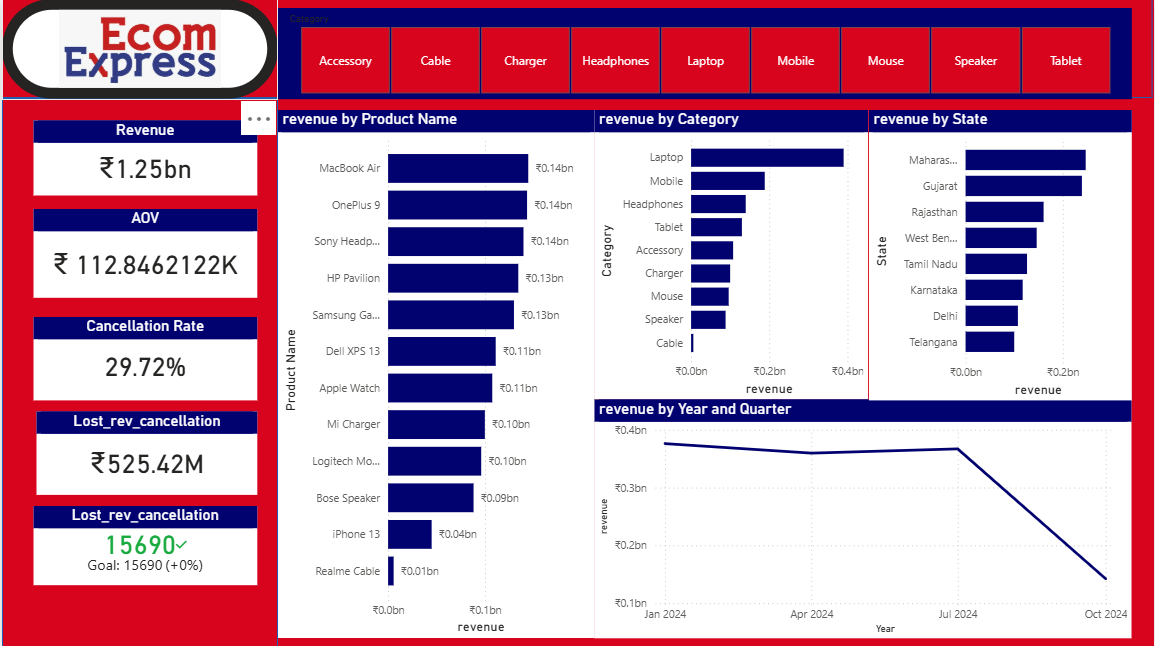

This screenshot's page, from the dashboard's own definition file:
{"tool":"powerbi","page":{"name":"Page 1","canvas":[1280,720],"ordinal":0},"visuals":[{"type":"shape","box":[0,0,1278.3,110],"z":0},{"type":"shape","box":[0,123.3,306.7,585],"z":1000},{"type":"barChart","fields":{"Y":["Table.revenue"],"Category":["Products.Product Name"]},"box":[306.7,123.3,351.7,586.7],"z":2000},{"type":"barChart","fields":{"Y":["Table.revenue"],"Category":["Products.Category"]},"box":[658.1,122.6,304.8,322.6],"z":3000},{"type":"lineChart","fields":{"Category":["Orders.Date and time of purchase.Variation.Date Hierarchy.Year","Orders.Date and time of purchase.Variation.Date Hierarchy.Quarter","Orders.Date and time of purchase.Variation.Date Hierarchy.Month","Orders.Date and time of purchase.Variation.Date Hierarchy.Day"],"Y":["Table.revenue"]},"box":[658.3,445,596.7,265],"z":4000},{"type":"barChart","fields":{"Category":["Customers.State"],"Y":["Table.revenue"]},"box":[962.9,122.6,291.9,322.6],"z":5000},{"type":"slicer","fields":{"Values":["Products.Category"]},"box":[306.5,9.7,948.4,101.6],"z":6000},{"type":"kpi","title":"Cancellation Rate","fields":{"TrendLine":["Table.Value"],"Indicator":["Table.cancellation rate"]},"box":[34.8,353,248.5,92.4],"z":7000},{"type":"kpi","title":"Revenue","fields":{"TrendLine":["Table.Value"],"Indicator":["Table.revenue"]},"box":[34.8,134.8,248.5,83.3],"z":8000},{"type":"kpi","title":"AOV","fields":{"TrendLine":["Table.Value"],"Indicator":["Table.AOV"]},"box":[34.8,233.3,248.5,98.5],"z":9000},{"type":"kpi","title":"Lost_rev_cancellation","fields":{"TrendLine":["Table.Value"],"Indicator":["Table.lost_rev_cancellation"]},"box":[37.9,457.6,245.5,92.4],"z":10000},{"type":"kpi","title":"Lost_rev_cancellation","fields":{"TrendLine":["Table.Value"],"Goal":["CountNonNull(Orders.OrderID)"],"Indicator":["CountNonNull(Orders.OrderID)"]},"box":[34.8,563.6,248.5,87.9],"z":11000},{"type":"image","box":[0,0,306.3,111],"z":11002}]}

Visuals, with their boxes in screenshot pixels (x1, y1, x2, y2), scaled from the page's 1280x720 canvas onto the 1155x646 screenshot:
shape: [x1=0, y1=0, x2=1153, y2=99]
shape: [x1=0, y1=111, x2=277, y2=636]
barChart - Table.revenue x Products.Product Name: [x1=277, y1=111, x2=594, y2=637]
barChart - Table.revenue x Products.Category: [x1=594, y1=110, x2=869, y2=399]
lineChart - Orders.Date and time of purchase.Variation.Date Hierarchy.Year x Orders.Date and time of purchase.Variation.Date Hierarchy.Quarter: [x1=594, y1=399, x2=1132, y2=637]
barChart - Customers.State x Table.revenue: [x1=869, y1=110, x2=1132, y2=399]
slicer - Products.Category: [x1=277, y1=9, x2=1132, y2=100]
"Cancellation Rate" kpi: [x1=31, y1=317, x2=256, y2=400]
"Revenue" kpi: [x1=31, y1=121, x2=256, y2=196]
"AOV" kpi: [x1=31, y1=209, x2=256, y2=298]
"Lost_rev_cancellation" kpi: [x1=34, y1=411, x2=256, y2=493]
"Lost_rev_cancellation" kpi: [x1=31, y1=506, x2=256, y2=585]
image: [x1=0, y1=0, x2=276, y2=100]
